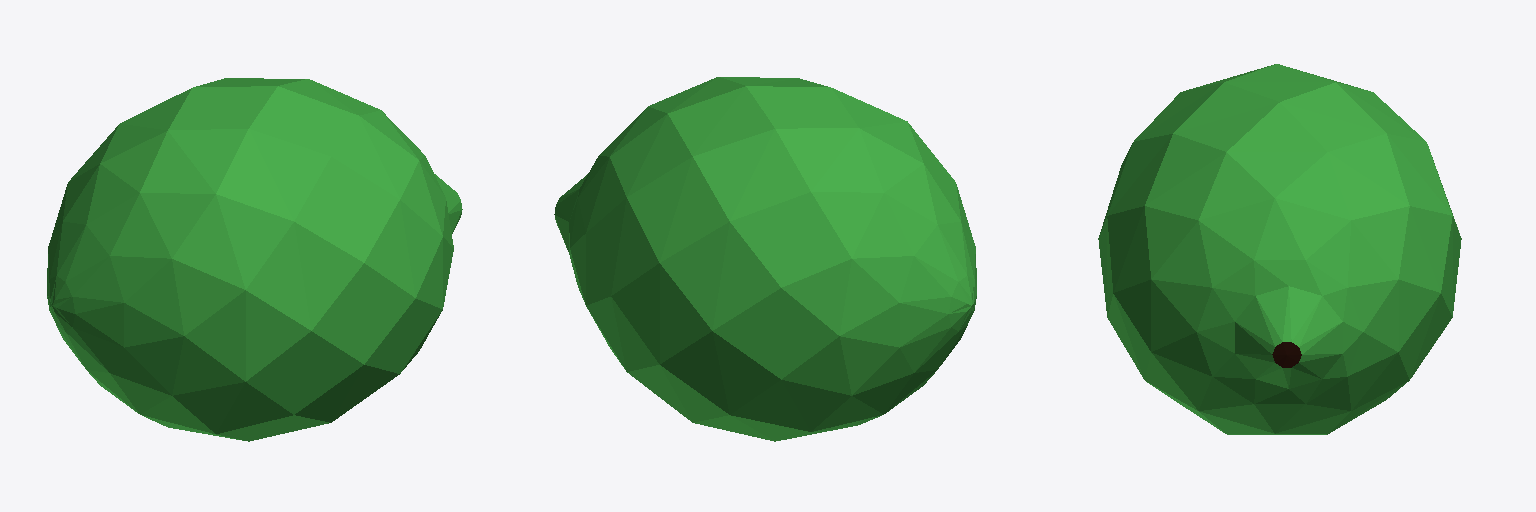
The model's file is snake_body.obj.
3 renders of one model, left to right at view 1: azimuth 30°, elevation 25°; view 2: azimuth 150°, elevation 25°; view 3: azimuth 270°, elevation 25°, orthographic.
Visible parts, largest first — view 1: Snake_Body; view 2: Snake_Body; view 3: Snake_Body.
Boxes of the visible parts, box(x1,y1,x2,y2) form: Snake_Body: box(47, 78, 462, 441); Snake_Body: box(554, 77, 976, 441); Snake_Body: box(1098, 64, 1461, 434).
Bounding box in the file's own units: 0.7591 × 0.5857 × 0.5857.